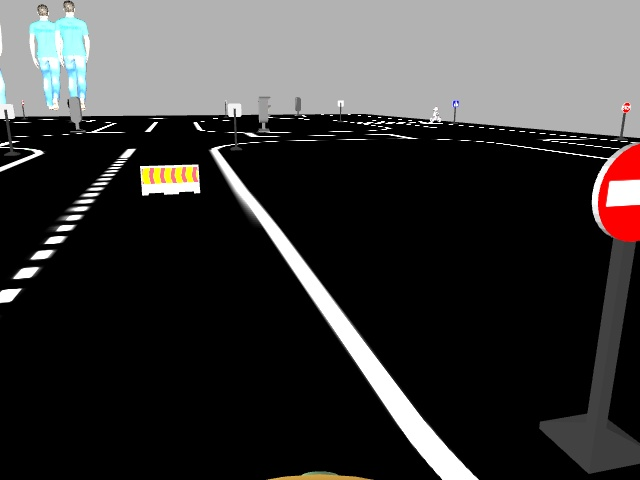ClosedRoadStand: (140, 166, 199, 191)
NoEntry: (594, 142, 639, 236)
